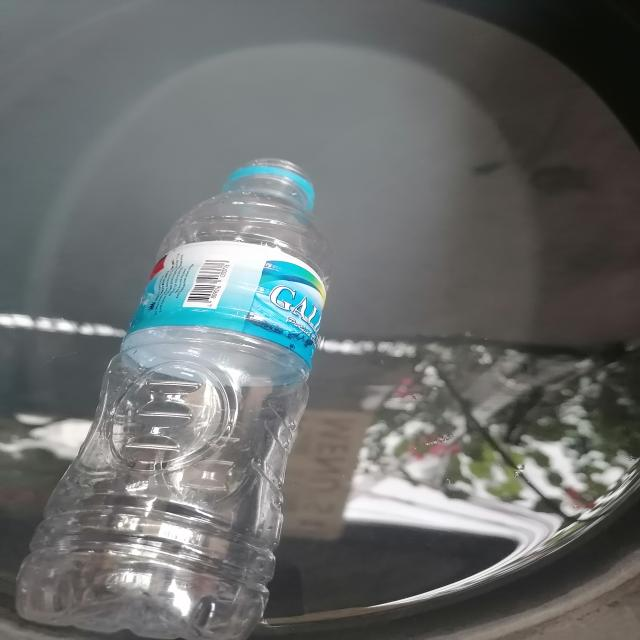Plastic Bottle: (0, 131, 371, 640)
